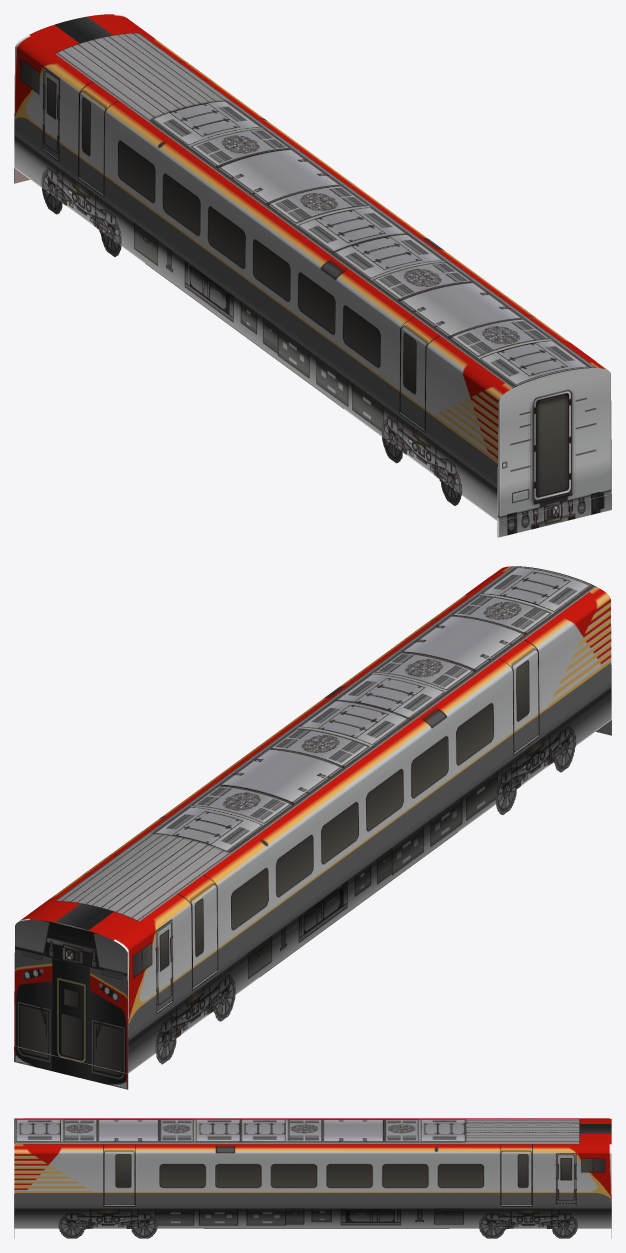
File: car2.glb
3 renders of one model, top to bottom at view 1: azimuth 30°, elevation 25°; view 2: azimuth 150°, elevation 25°; view 3: azimuth 270°, elevation 25°, orthographic. The views are drawn at different scales.
Visible parts, largest first — view 1: jr-shikoku-2600-car2; view 2: jr-shikoku-2600-car2; view 3: jr-shikoku-2600-car2.
Boxes of the visible parts, left/top/right/bottom form: jr-shikoku-2600-car2: left=14, top=14, right=611, bottom=537; jr-shikoku-2600-car2: left=14, top=566, right=611, bottom=1089; jr-shikoku-2600-car2: left=14, top=1118, right=611, bottom=1238.
Bounding box in the file's own units: 2.83 × 3.56 × 20.83.
8 materials, 7 textured.
